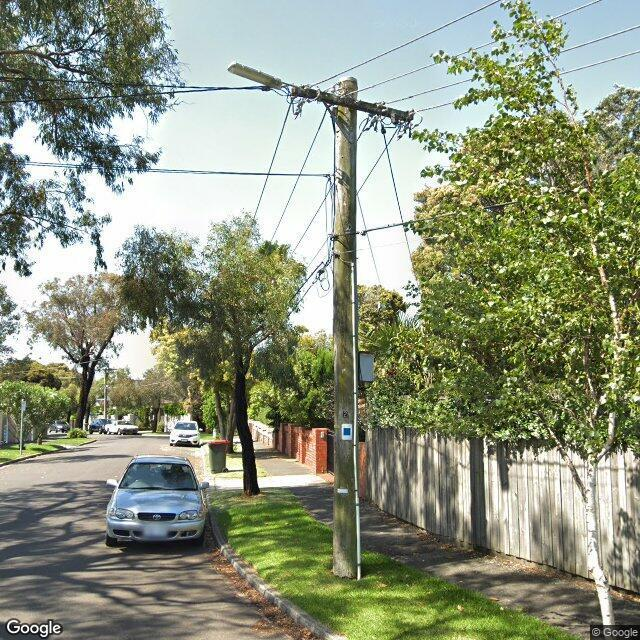crossarm: (290, 81, 414, 122)
streetlight: (225, 61, 284, 90)
timber-pole: (332, 77, 362, 577)
